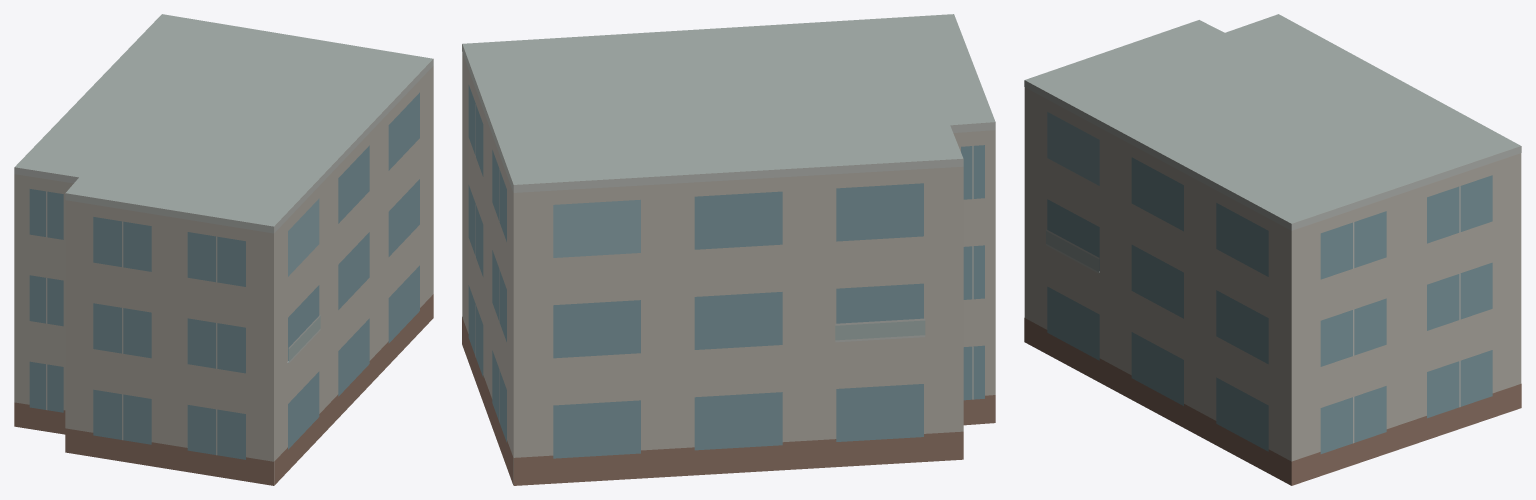
The model's file is survey-upis-32938349.glb.
3 renders of one model, left to right at view 1: azimuth 30°, elevation 25°; view 2: azimuth 150°, elevation 25°; view 3: azimuth 270°, elevation 25°, orthographic. The views are drawn at different scales.
Visible parts, largest first — view 1: survey-upis-32938349.tmp; view 2: survey-upis-32938349.tmp; view 3: survey-upis-32938349.tmp.
Part boxes in pixels (box(x1,y1,x2,y2)): survey-upis-32938349.tmp: box(14, 14, 433, 485); survey-upis-32938349.tmp: box(462, 14, 995, 485); survey-upis-32938349.tmp: box(1024, 14, 1521, 485).
Size of the model in its own units: 15.72 by 9.15 by 15.73.
